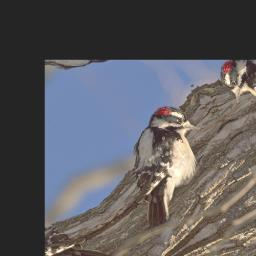Woodpecker: (86, 97, 239, 232)
